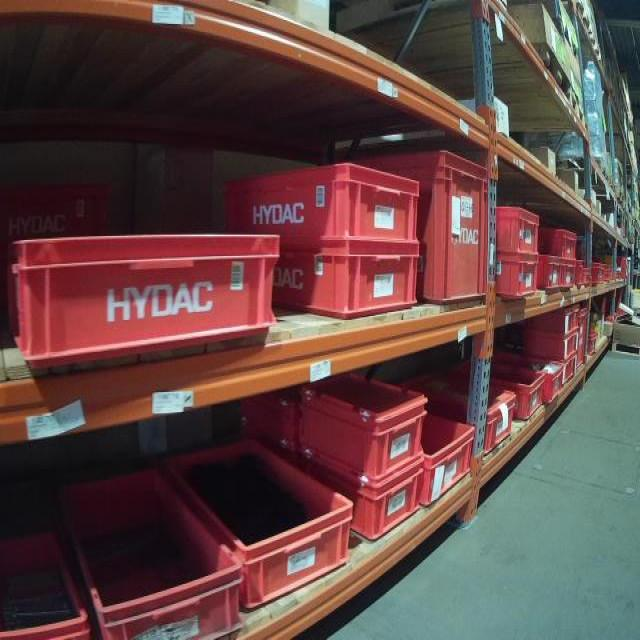pallet: (439, 54, 571, 105), (538, 5, 593, 47), (557, 96, 586, 133)
small_load_carrier: (10, 228, 280, 365), (161, 430, 358, 610), (53, 459, 247, 638), (355, 139, 488, 312), (218, 153, 431, 249), (293, 371, 432, 482), (381, 378, 524, 471), (281, 242, 427, 331), (283, 463, 425, 548), (3, 521, 93, 639), (416, 422, 480, 513), (454, 364, 546, 413), (486, 352, 566, 396), (480, 253, 541, 305), (490, 197, 541, 254), (533, 298, 586, 336), (535, 225, 579, 259), (521, 333, 579, 357), (556, 258, 579, 293), (579, 307, 591, 370), (541, 253, 559, 287), (590, 251, 604, 287), (577, 261, 592, 287), (588, 329, 600, 358), (562, 357, 579, 377)
